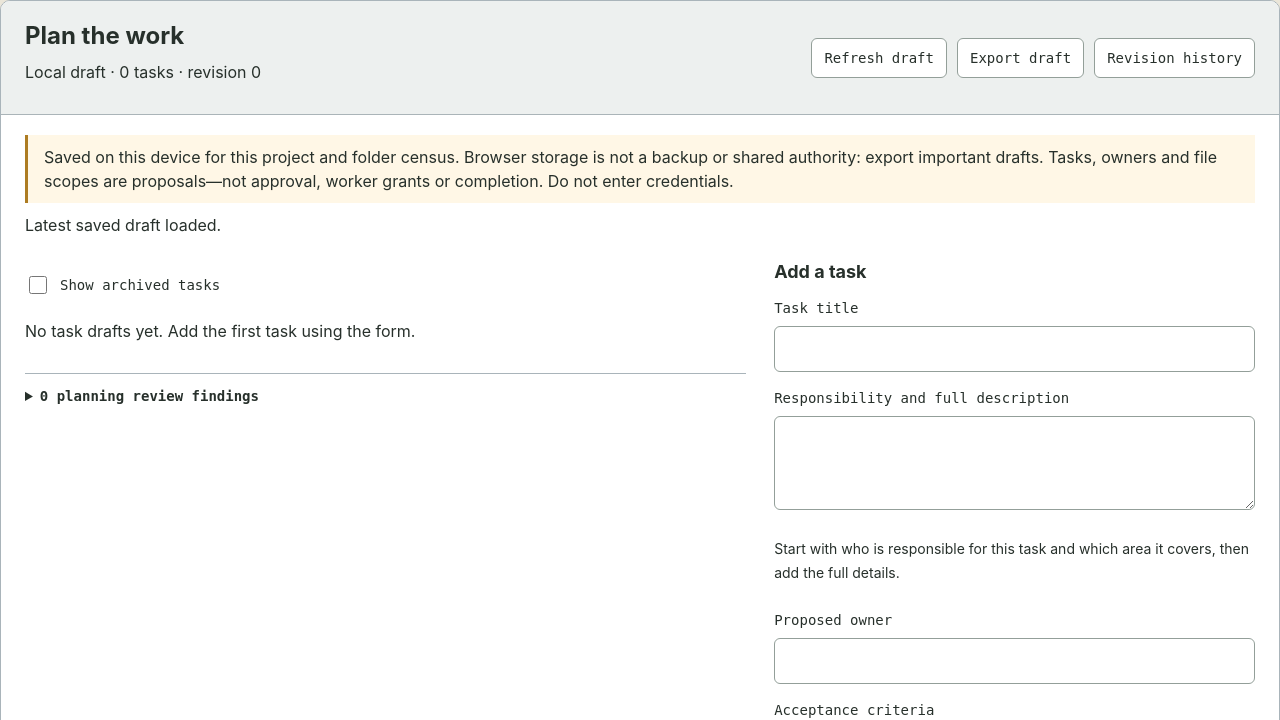
Test case: late failed checkpoint from closed session cannot smear successful new editor
The image size is (1280, 720).
Expected: the text "No task drafts yet. Add the first task using the form." is shown, [25,321,415,341]
Type "Peer-preserved text" into the field labelled "Task title" at (1015, 349), box [774,326,1255,372]
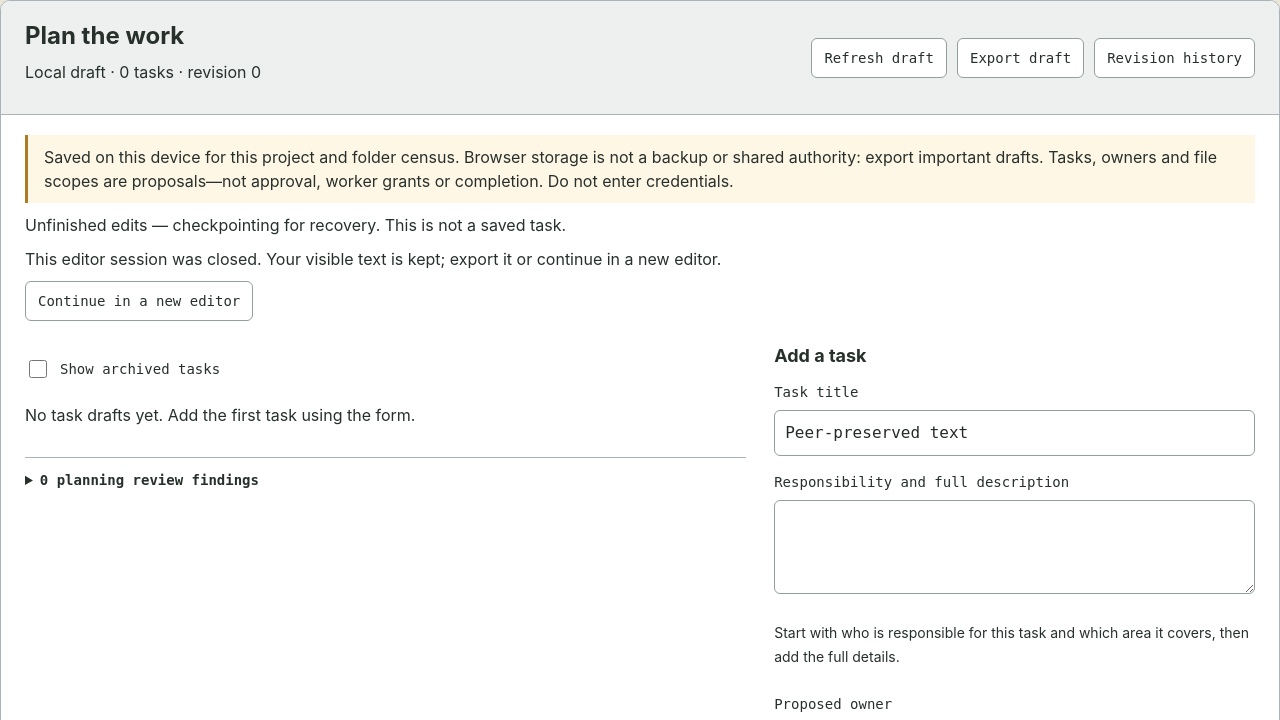
Now the text "This editor session was closed" is shown, box [25,249,721,269]
Click the button "Continue in a new editor" at (139, 301), box [25,281,253,321]
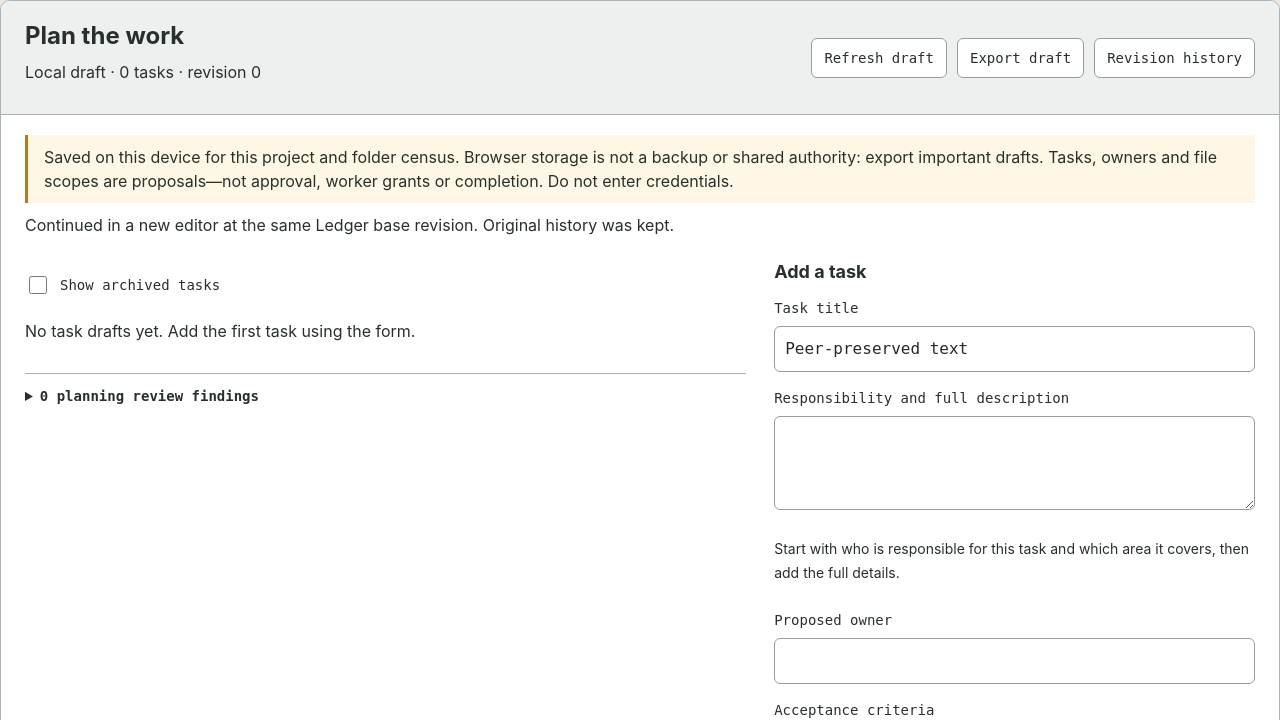
Now the text "Continued in a new editor at the same Ledger base revision" is shown, box [25,215,674,235]
